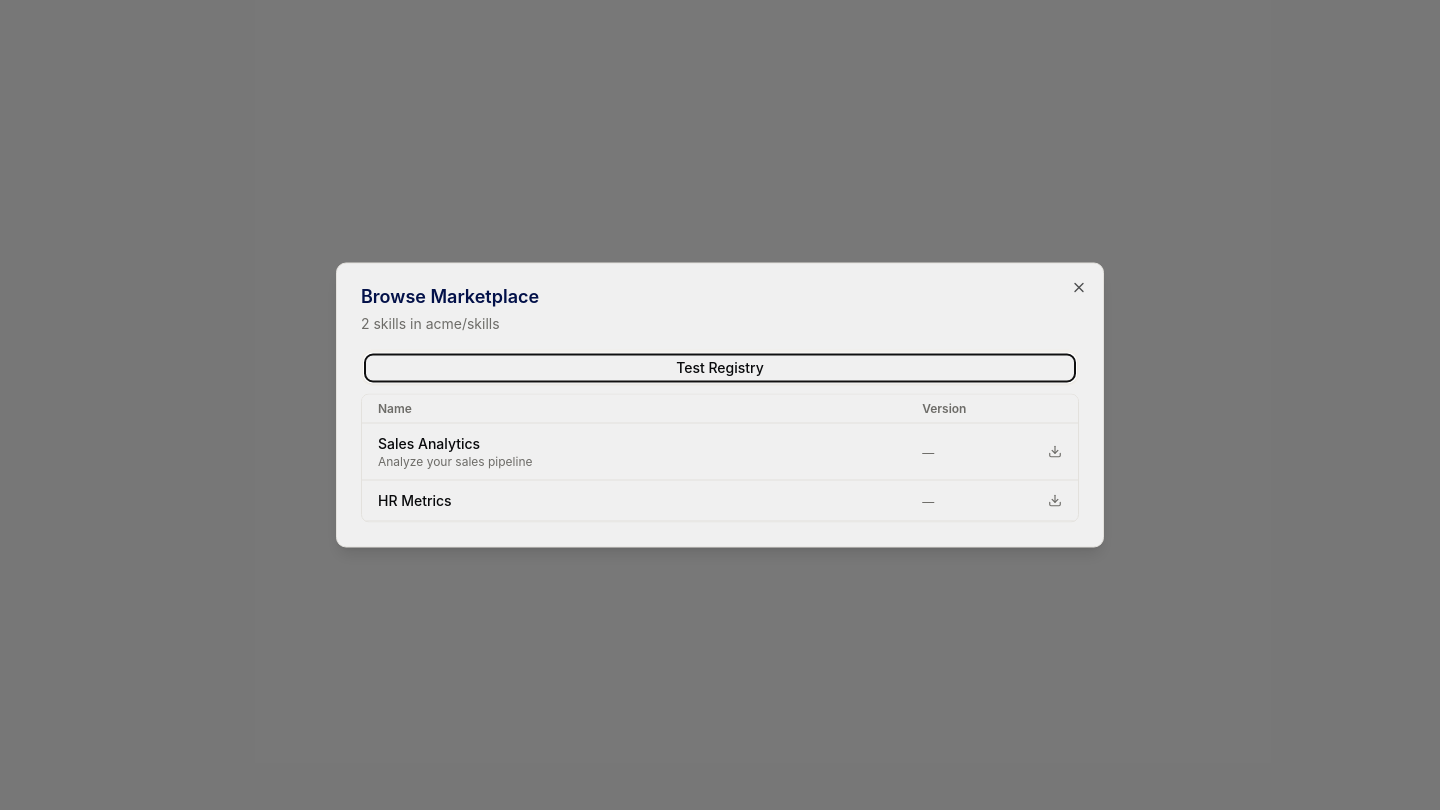
GitHubImportDialog › Import — dashboard-library mode › closes edit form without importing when Cancel is clicked
Check: the text "Sales Analytics" is shown, box [378, 434, 480, 454]
Click the button named "Install Sales Analytics".
click(1055, 452)  # box [1048, 444, 1062, 458]
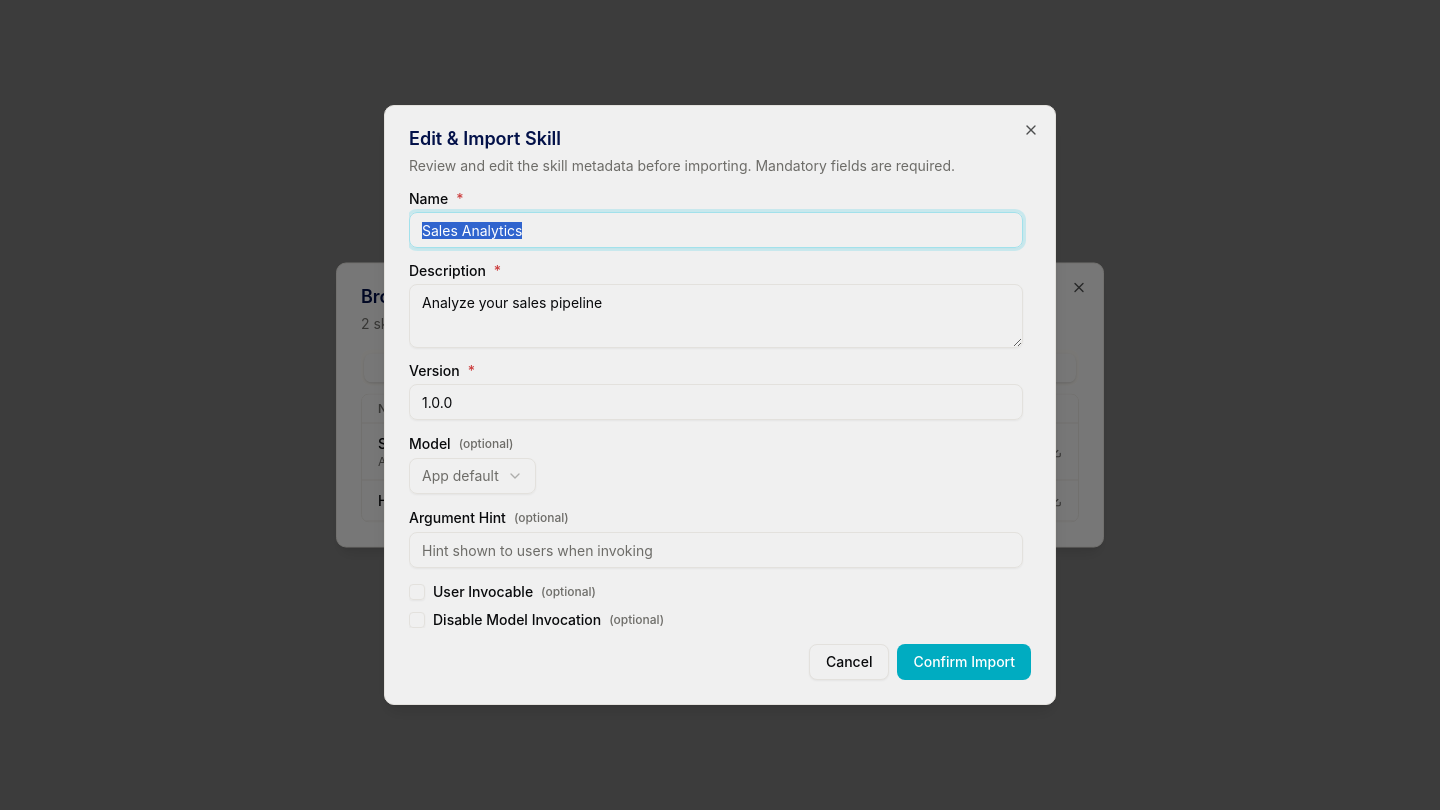
Check: the button "Confirm Import" is shown, box [897, 644, 1031, 680]
Click the button "Cancel".
click(849, 662)  # box [809, 644, 890, 680]
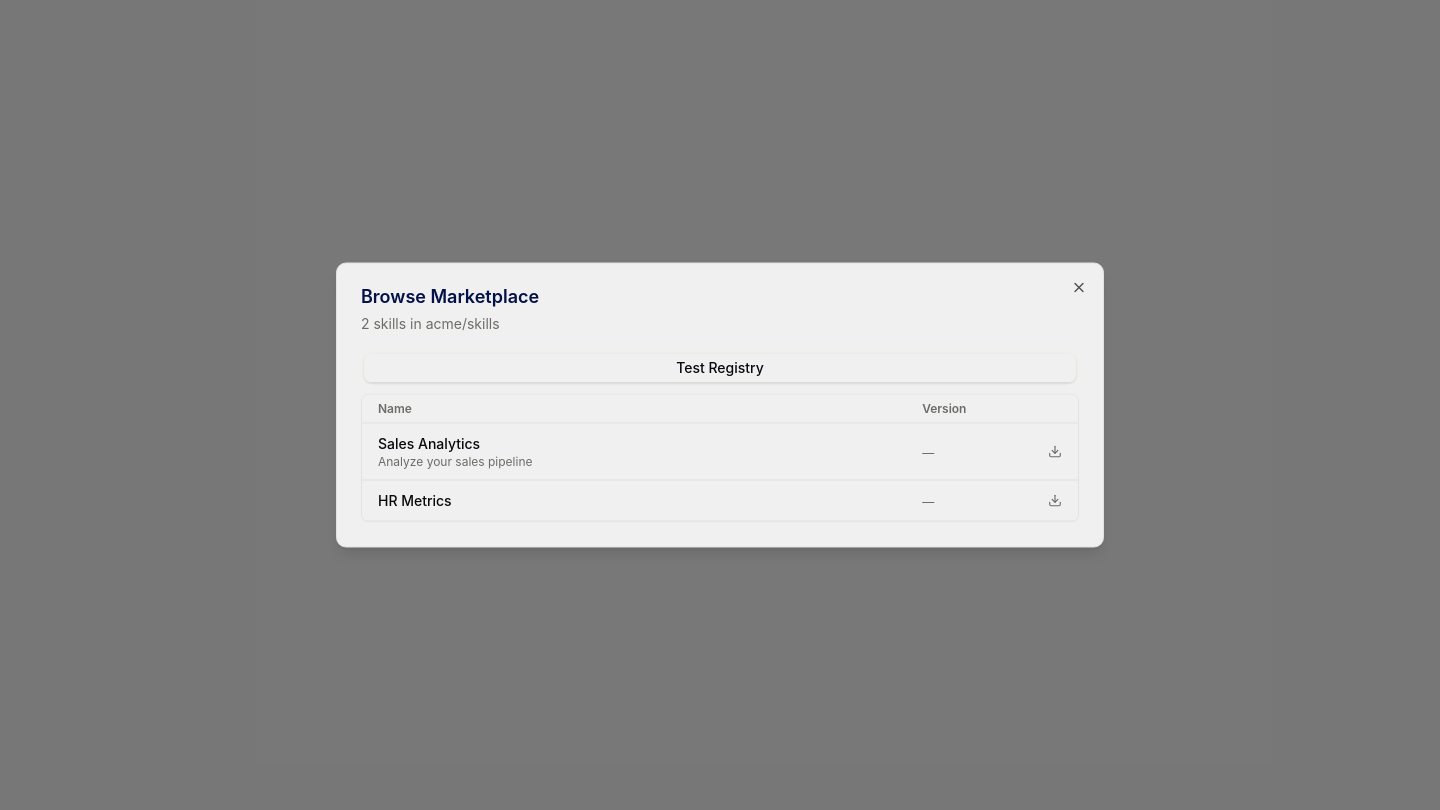
Check: the heading "Edit & Import Skill" is gone
